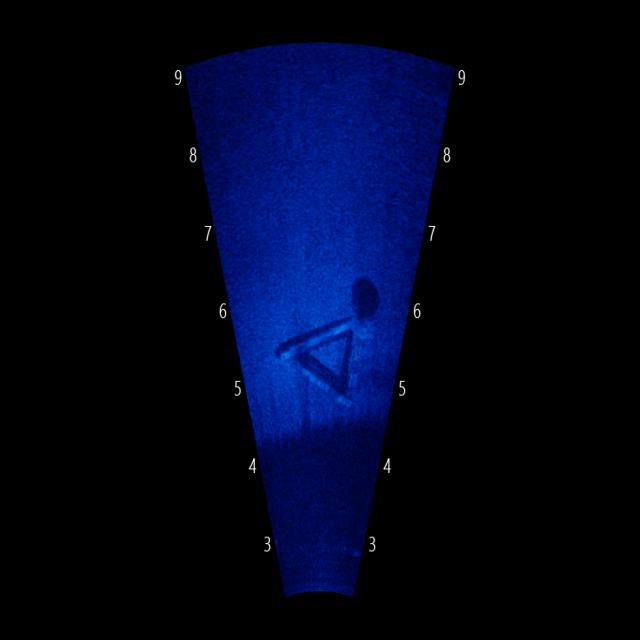triangle: (277, 257, 369, 416)
